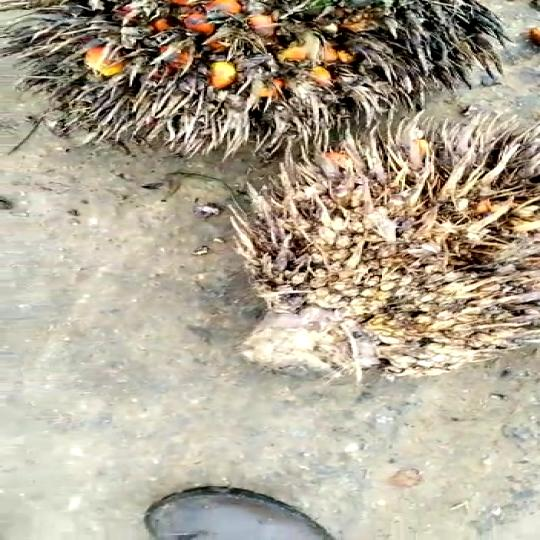terlalu masak: (196, 115, 540, 382), (0, 0, 503, 154)
